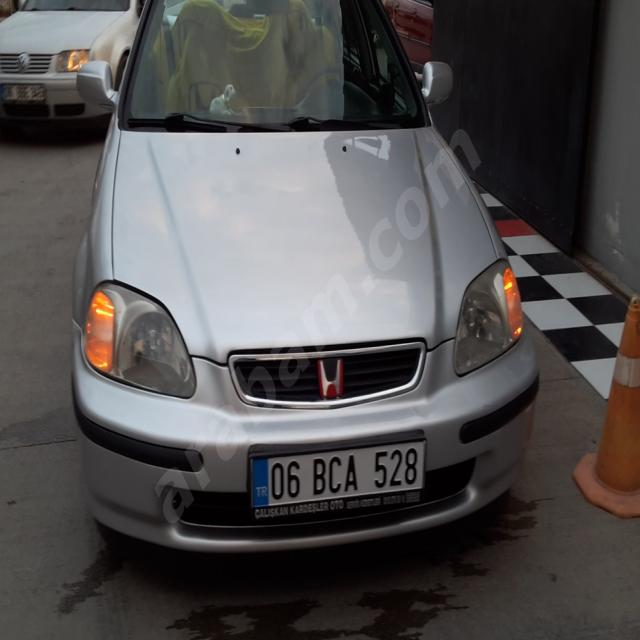license_plate: (251, 439, 426, 510)
